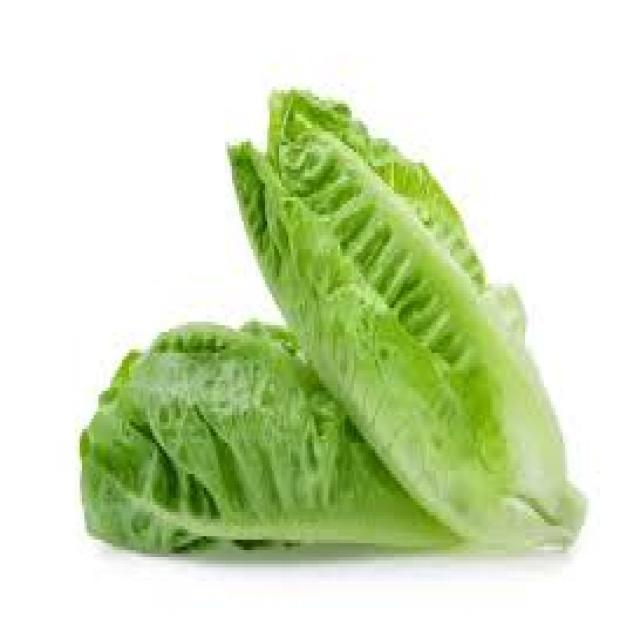Lettuce: (225, 61, 608, 572), (57, 308, 473, 568)
